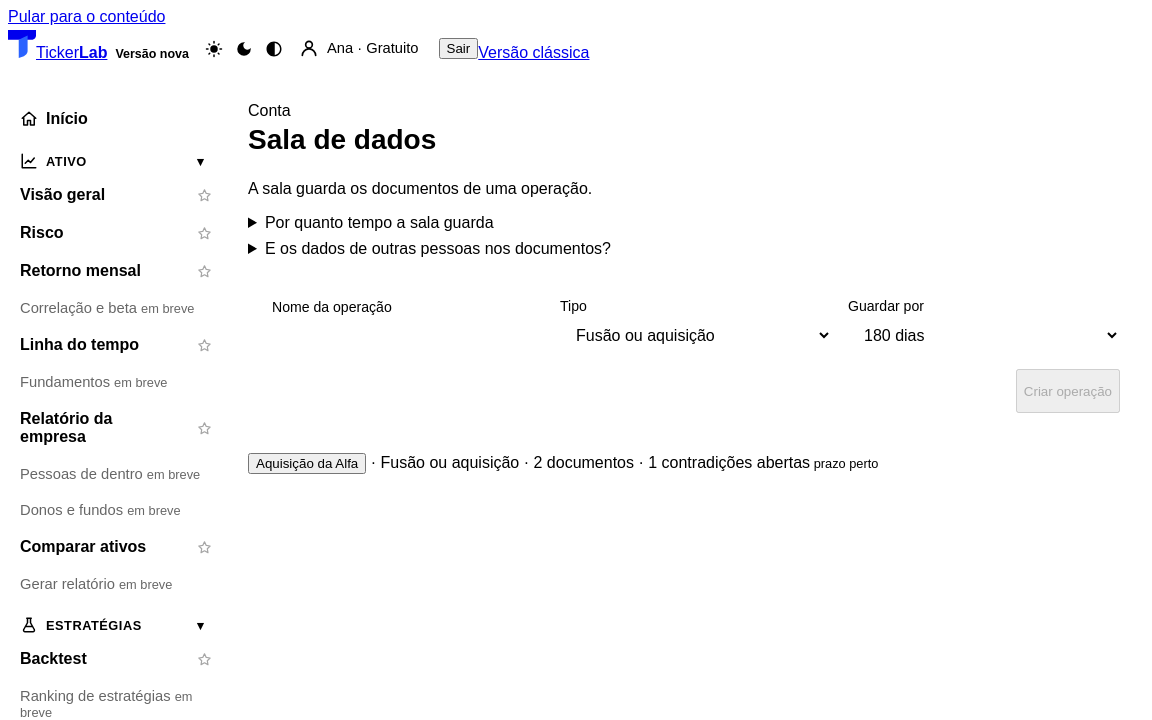
Test: sala de dados › abrir a operação mostra documentos, evidências, contradições e checklist, com os textos da API
This screenshot has width=1152, height=720.
Click the button "Aquisição da Alfa".
click(307, 464)  # box 248,453 -> 366,474
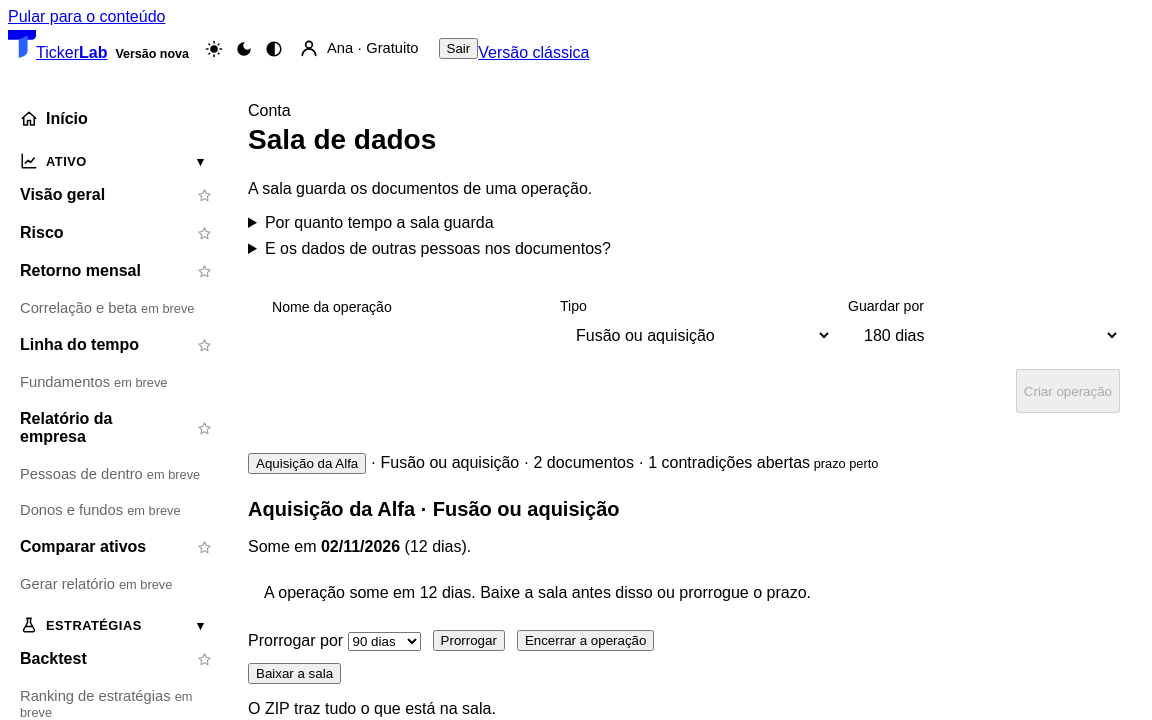
Now the text "A operação some em 12 dias" is shown, box 264,584 -> 811,601
